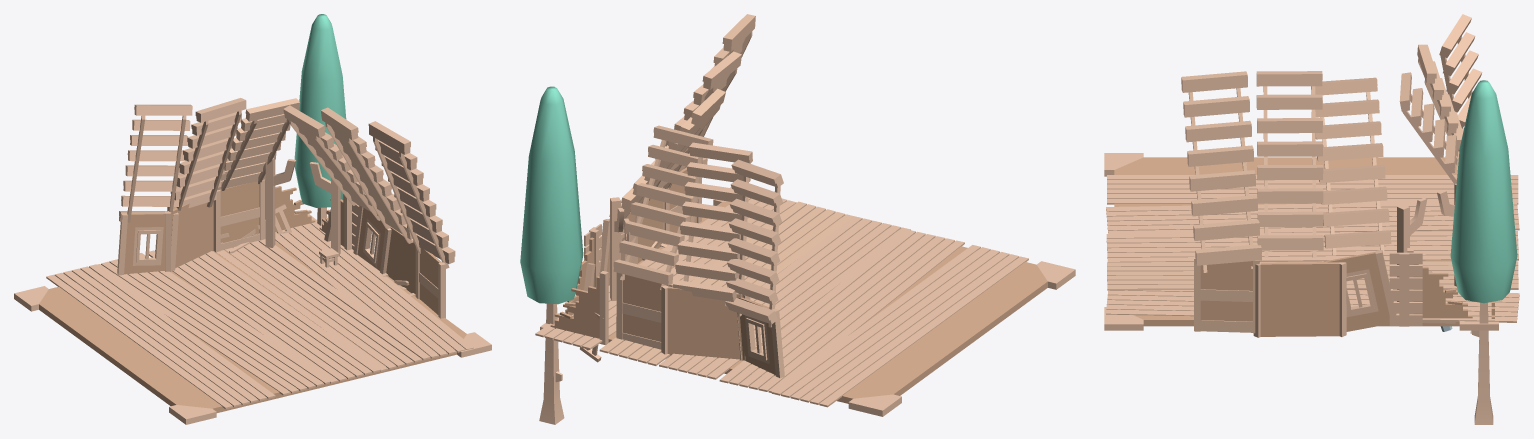
Rendered from betaTreeHouse.fbx.
The picture shows the model from 3 angles, left to right: view 1: azimuth 30°, elevation 25°; view 2: azimuth 150°, elevation 25°; view 3: azimuth 270°, elevation 25°; orthographic projection. The views are drawn at different scales.
Parts seen in each view (by area): view 1: wallWoodBlockHalf, planks.004, planks.003, planks.001, planks.002, planks, treeHighRound, stairsWideWood.004, stairsWideWood.005, stairsWideWood, stairsWideWood.001, stairsWideWood.002 (+10 smaller); view 2: wallWoodBlockHalf, treeHighRound, planks.004, planks.003, planks.002, stairsWideWood, stairsWideWood.001, stairsWideWood.004, wallWoodDiagonal, planks.001, wallWoodDetailHorizontal, planks (+8 smaller); view 3: treeHighRound, stairsWideWood.005, stairsWideWood.002, stairsWideWood.003, wallWoodDiagonal.001, wallWoodBlockHalf, planks.002, planks.004, planks.003, wallWoodDetailHorizontal.001, planks, planks.001 (+7 smaller).
Boxes of the visible parts, x1,y1,x2,y2 form: wallWoodBlockHalf: [14, 219, 491, 424]; planks.004: [46, 264, 275, 409]; planks.003: [93, 253, 330, 395]; planks.001: [217, 239, 430, 371]; planks.002: [149, 250, 380, 383]; planks: [275, 214, 473, 360]; treeHighRound: [294, 14, 346, 225]; stairsWideWood.004: [119, 104, 192, 222]; stairsWideWood.005: [368, 121, 455, 268]; stairsWideWood: [167, 98, 246, 211]; stairsWideWood.001: [217, 98, 300, 190]; stairsWideWood.002: [320, 107, 412, 243]; wallWoodBlockHalf: [540, 187, 1075, 416]; treeHighRound: [520, 86, 583, 424]; planks.004: [771, 245, 1028, 407]; planks.003: [719, 229, 964, 392]; planks.002: [659, 216, 910, 379]; stairsWideWood: [673, 142, 752, 306]; stairsWideWood.001: [613, 125, 713, 289]; stairsWideWood.004: [725, 159, 783, 327]; wallWoodDiagonal: [661, 285, 750, 360]; planks.001: [599, 201, 853, 365]; wallWoodDetailHorizontal: [616, 272, 673, 349]; planks: [535, 197, 796, 349]; treeHighRound: [1450, 80, 1517, 424]; stairsWideWood.005: [1181, 71, 1261, 272]; stairsWideWood.002: [1256, 71, 1323, 257]; stairsWideWood.003: [1311, 77, 1391, 255]; wallWoodDiagonal.001: [1253, 262, 1346, 337]; wallWoodBlockHalf: [1104, 153, 1498, 330]; planks.002: [1106, 231, 1518, 262]; planks.004: [1107, 175, 1518, 204]; planks.003: [1106, 200, 1519, 233]; wallWoodDetailHorizontal.001: [1194, 256, 1259, 333]; planks: [1106, 289, 1519, 323]; planks.001: [1107, 261, 1518, 290].
Bounding box in the file's own units: 660 × 569 × 633.
